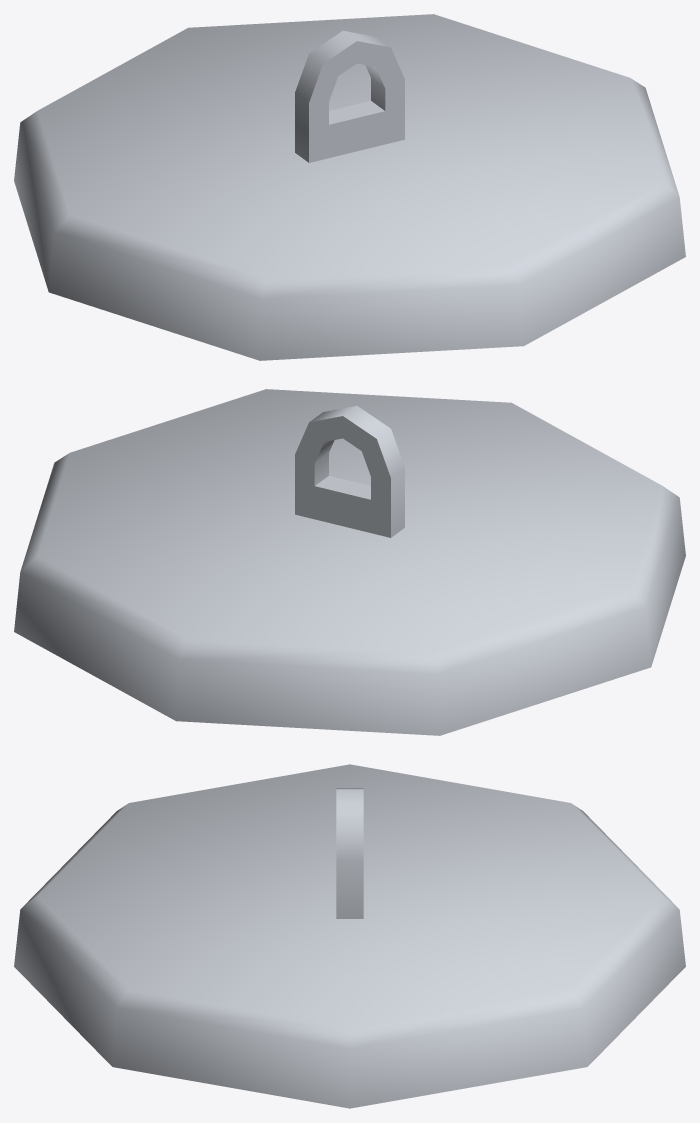
Rendered from heating_equipment_crucible_lid.glb.
The picture shows the model from 3 angles, top to bottom: view 1: azimuth 30°, elevation 25°; view 2: azimuth 150°, elevation 25°; view 3: azimuth 270°, elevation 25°; orthographic projection. The views are drawn at different scales.
Visible parts, largest first — view 1: heating_equipment_crucible_lid; view 2: heating_equipment_crucible_lid; view 3: heating_equipment_crucible_lid.
Boxes of the visible parts, x1,y1,x2,y2 form: heating_equipment_crucible_lid: (14, 14, 685, 360); heating_equipment_crucible_lid: (14, 389, 685, 735); heating_equipment_crucible_lid: (14, 764, 685, 1108).
Bounding box in the file's own units: 12.99 × 3.77 × 12.99.
1 material, 1 textured.
